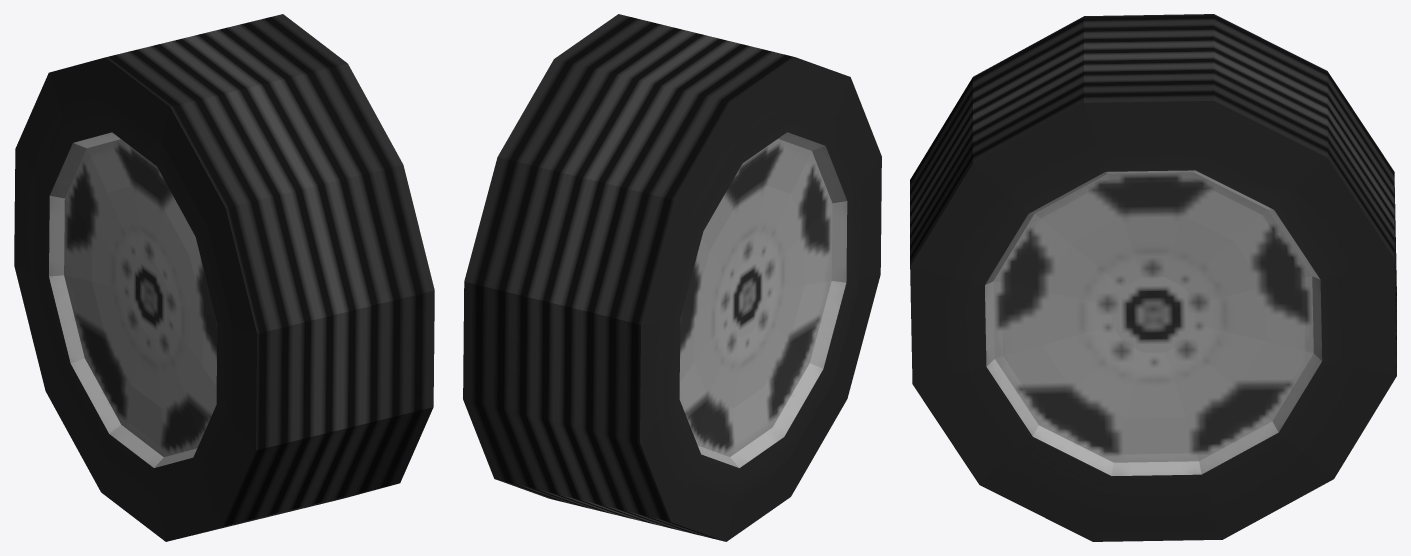
File: ETK2400PostWheelB.fbx
3 renders of one model, left to right at view 1: azimuth 30°, elevation 25°; view 2: azimuth 150°, elevation 25°; view 3: azimuth 270°, elevation 25°, orthographic.
Visible parts, largest first — view 1: GavrilWheel.001; view 2: GavrilWheel.001; view 3: GavrilWheel.001.
Part boxes in pixels (left/top/right/bottom): GavrilWheel.001: left=14, top=14, right=434, bottom=541; GavrilWheel.001: left=463, top=14, right=881, bottom=541; GavrilWheel.001: left=910, top=14, right=1396, bottom=541.
Bounding box in the file's own units: 0.3259 × 0.7456 × 0.7456.
